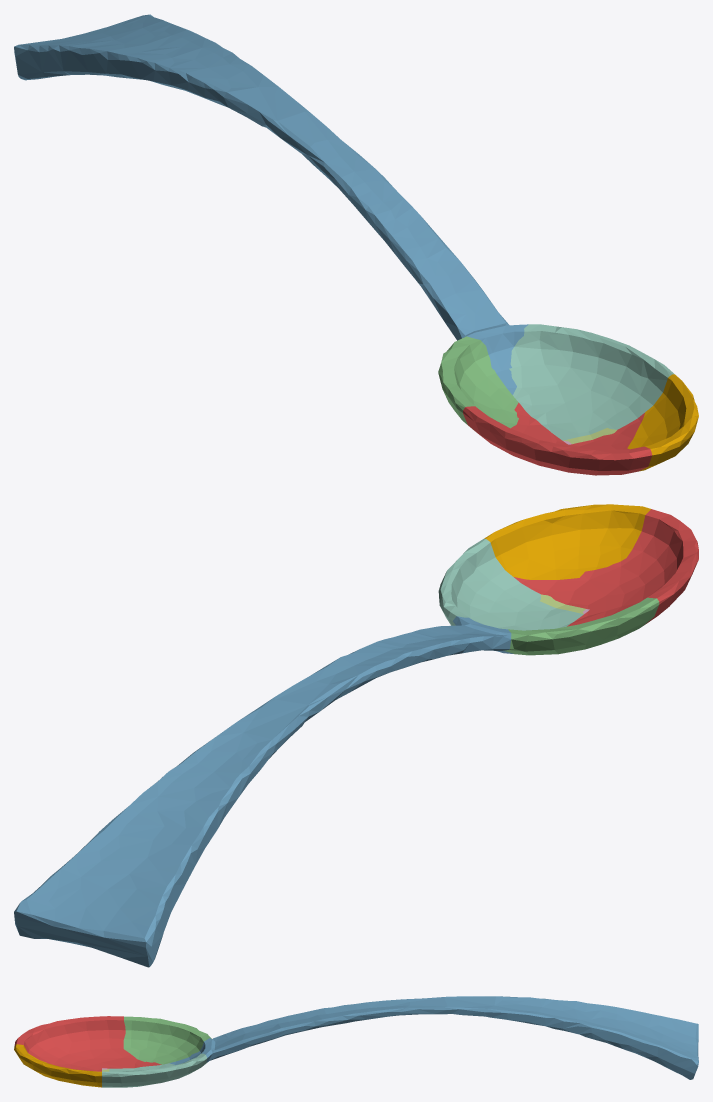
File: mode_9_7pcs.glb
The picture shows the model from 3 angles, top to bottom: view 1: azimuth 30°, elevation 25°; view 2: azimuth 150°, elevation 25°; view 3: azimuth 270°, elevation 25°; orthographic projection. The views are drawn at different scales.
Parts seen in each view (by area): view 1: piece_2.obj, piece_4.obj, piece_1.obj, piece_3.obj, piece_0.obj; view 2: piece_2.obj, piece_0.obj, piece_1.obj, piece_4.obj, piece_3.obj; view 3: piece_2.obj, piece_1.obj, piece_3.obj, piece_4.obj, piece_0.obj.
Part boxes in pixels (bbox=[...]): piece_2.obj: bbox=[14, 14, 528, 394]; piece_4.obj: bbox=[509, 324, 674, 440]; piece_1.obj: bbox=[463, 402, 652, 475]; piece_3.obj: bbox=[438, 336, 518, 429]; piece_0.obj: bbox=[627, 374, 698, 471]; piece_2.obj: bbox=[14, 616, 513, 967]; piece_0.obj: bbox=[484, 504, 650, 579]; piece_1.obj: bbox=[514, 509, 698, 626]; piece_4.obj: bbox=[438, 538, 583, 630]; piece_3.obj: bbox=[503, 597, 659, 655]; piece_2.obj: bbox=[169, 996, 698, 1079]; piece_1.obj: bbox=[14, 1016, 161, 1087]; piece_3.obj: bbox=[123, 1016, 211, 1064]; piece_4.obj: bbox=[102, 1053, 207, 1087]; piece_0.obj: bbox=[14, 1044, 101, 1087].
Size of the model in its own units: 0.1994 by 0.1195 by 1.
